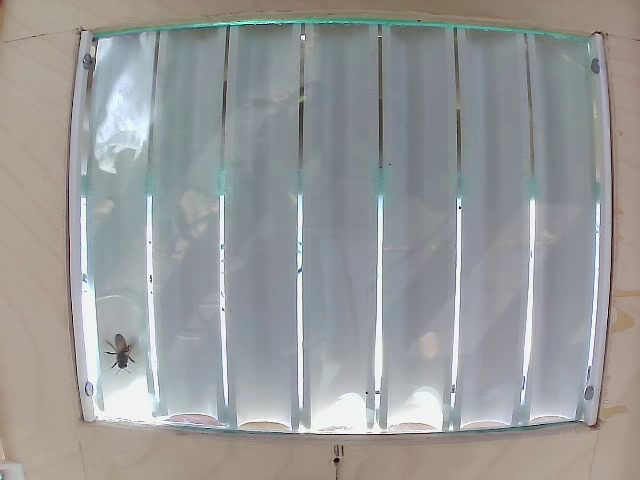bee: (102, 326, 140, 374)
